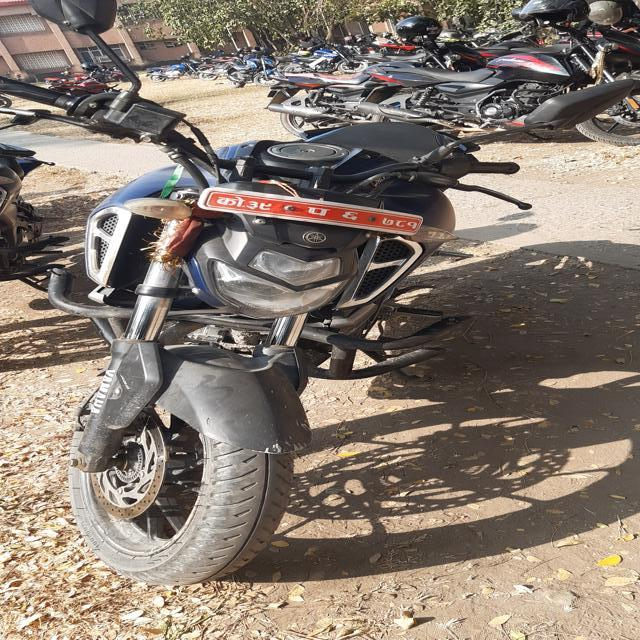license_plate: (192, 185, 457, 240)
